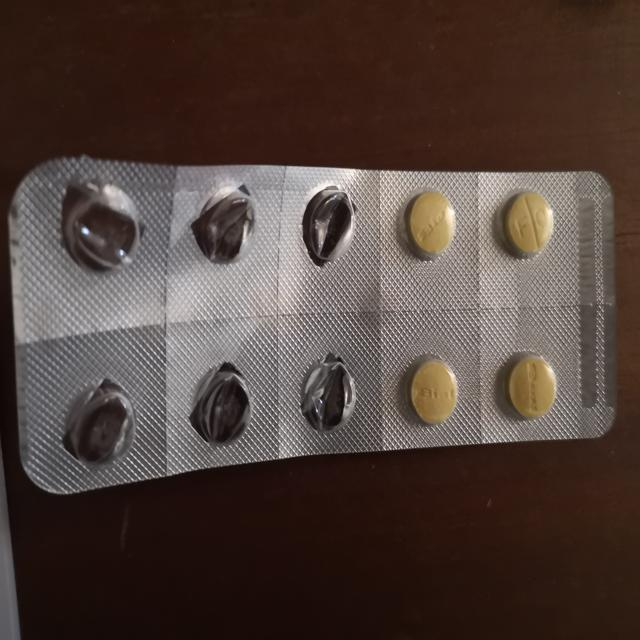Empty: (60, 171, 144, 280), (58, 370, 144, 470), (182, 173, 262, 267), (186, 357, 256, 448), (295, 346, 363, 438), (294, 182, 358, 272)
Pill: (497, 340, 559, 428), (494, 182, 558, 264), (398, 185, 463, 264), (402, 347, 464, 429)
